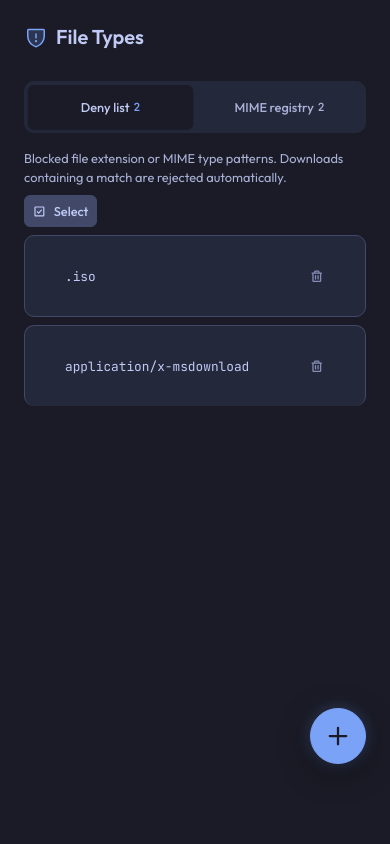
FileTypesPage › opens the Deny list tab add dialog from the floating button
Click the tab "Deny list 2".
click(110, 107)  # box [28, 85, 193, 129]
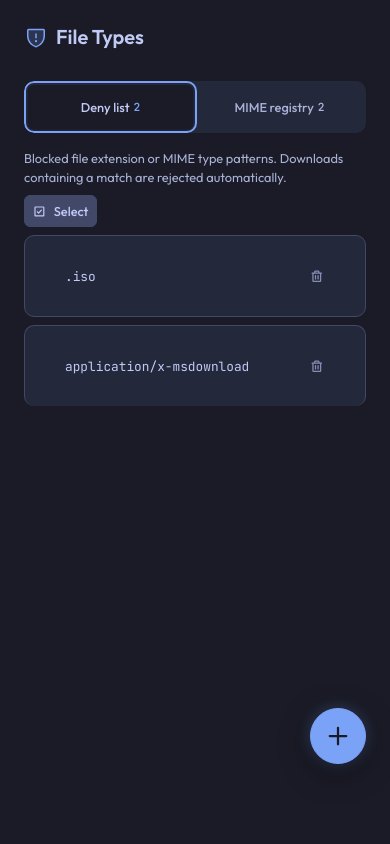
Click the button named "Add Entry".
click(338, 736)  # box [310, 708, 366, 764]
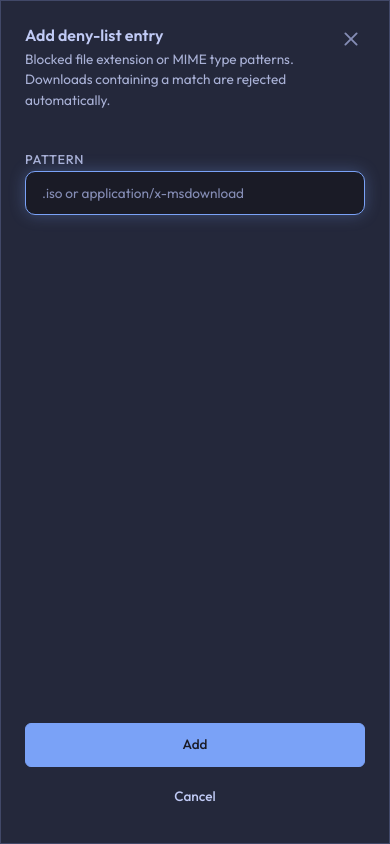
Expected: the dialog "Add deny-list entry" is shown
